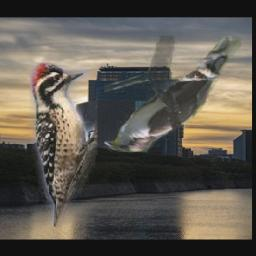Cuckoo: (105, 36, 244, 152)
Woodpecker: (31, 63, 98, 227)
